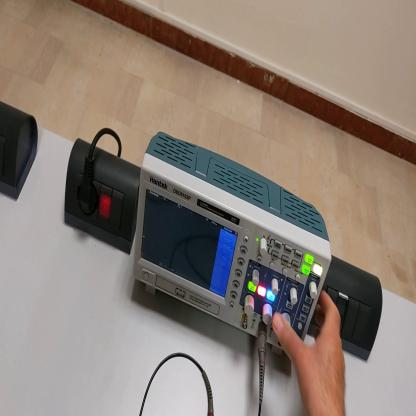hand: (274, 288, 348, 415)
oscilloscope: (133, 132, 332, 360)
oscilloscope probe tip: (202, 373, 215, 414)
socket: (66, 138, 141, 256), (1, 100, 39, 205)
